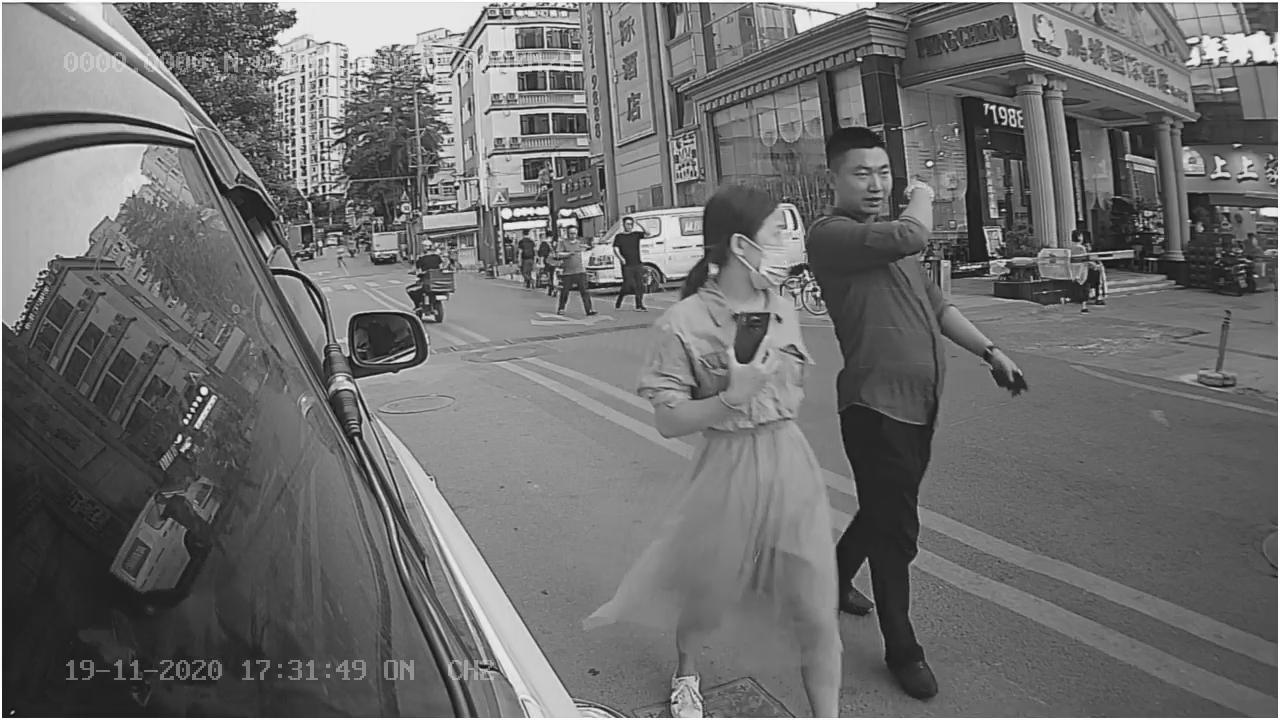person: (644, 193, 824, 602)
